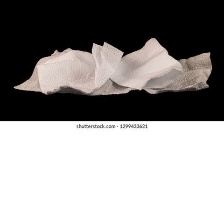tissue: (8, 31, 217, 105)
